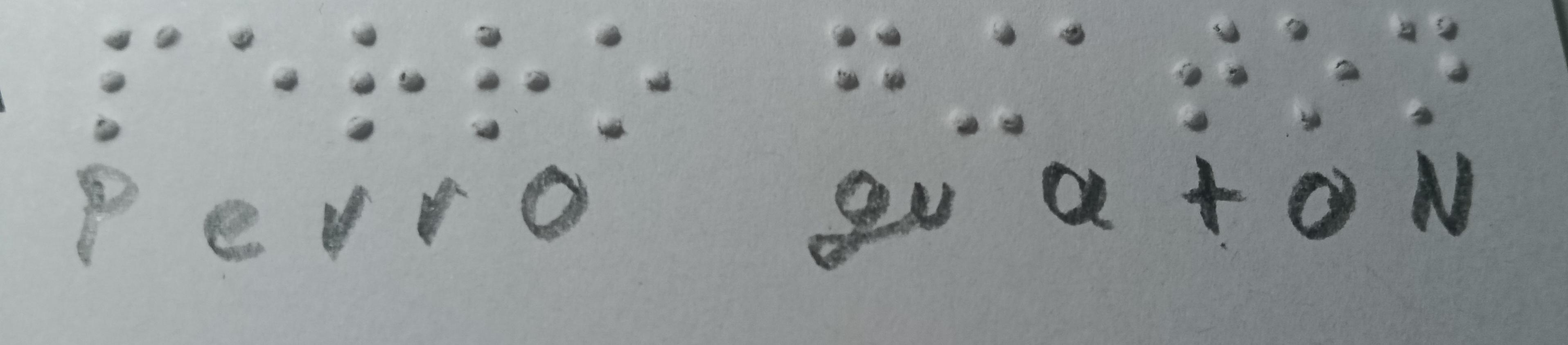a: (1031, 16, 1113, 55)
e: (219, 20, 315, 108)
g: (827, 20, 923, 102)
n: (1369, 0, 1484, 143)
o: (1275, 10, 1375, 143), (587, 16, 681, 155)
p: (90, 14, 188, 153)
r: (450, 22, 563, 143), (336, 18, 430, 155)
t: (1150, 8, 1269, 139)
u: (943, 18, 1036, 143)
